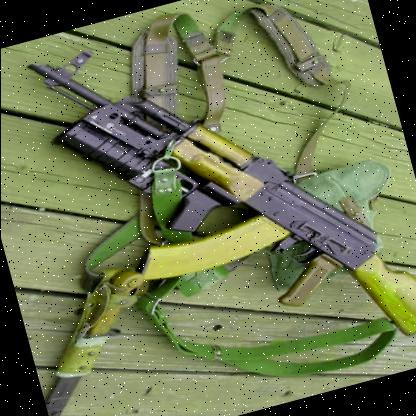rifle: (7, 0, 416, 380)
